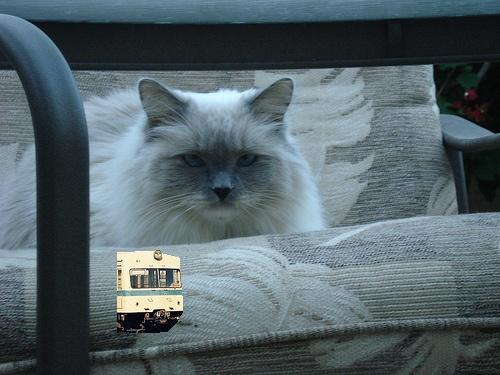tampered: (118, 250, 183, 333)
